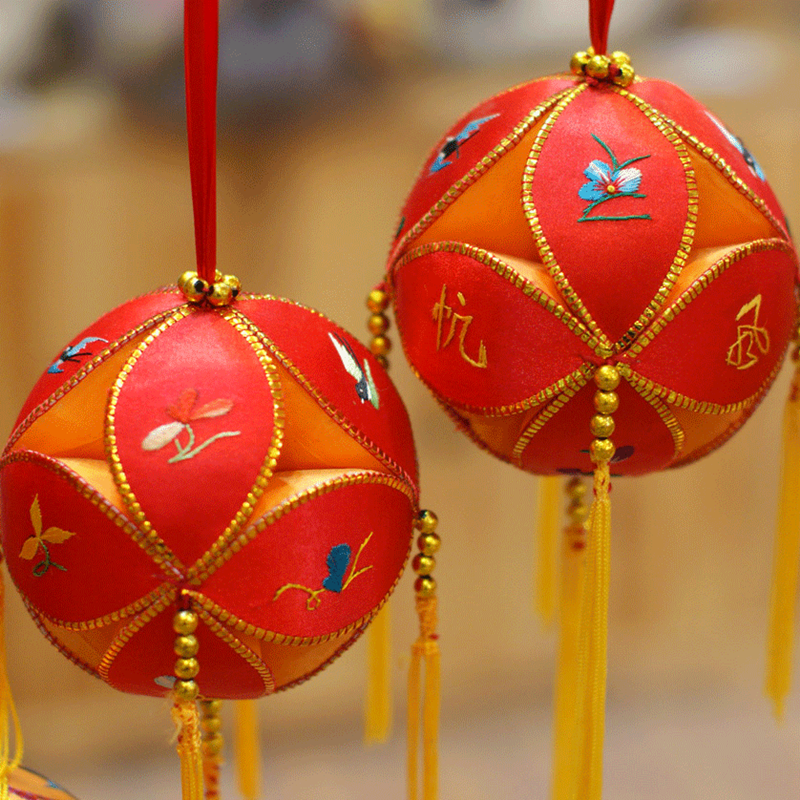xiuqiu: (3, 287, 415, 698), (380, 74, 800, 474)
